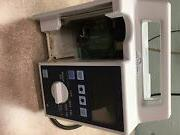plumxl1: (33, 1, 176, 128)
